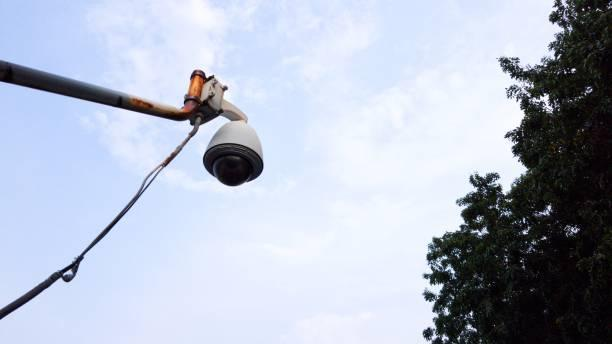camera: (176, 97, 290, 211)
